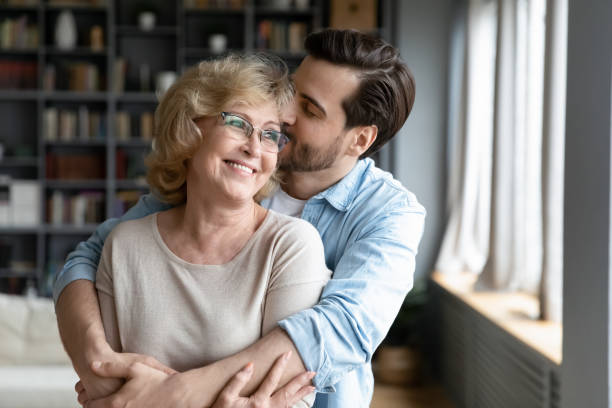without mask: (172, 101, 284, 204), (270, 69, 382, 172)
